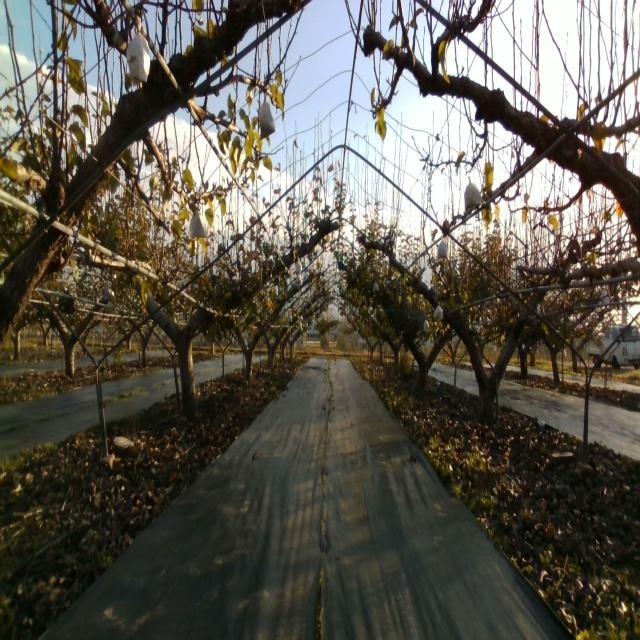pearbags: (126, 15, 150, 84), (258, 91, 277, 140), (463, 174, 483, 210), (188, 210, 210, 239), (436, 237, 449, 260)
